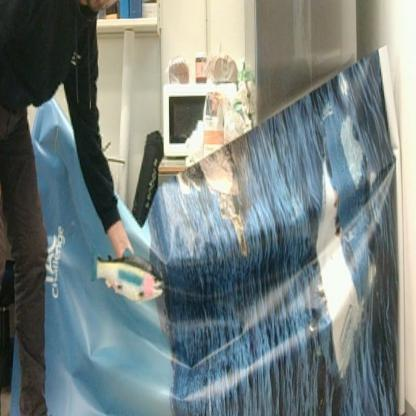rubberfish: (89, 246, 167, 308)
